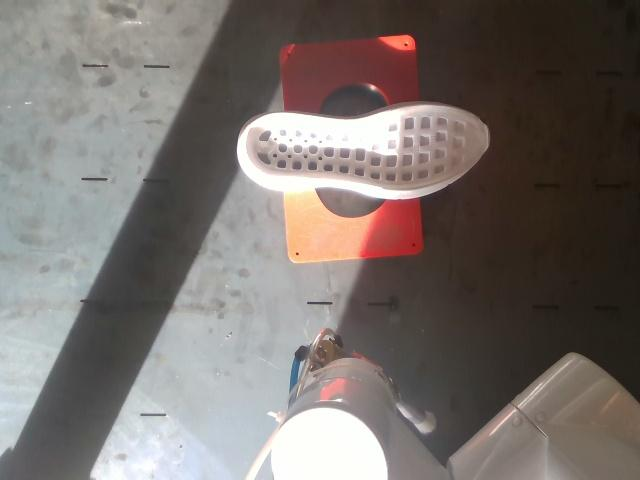shoes: (245, 105, 489, 190)
